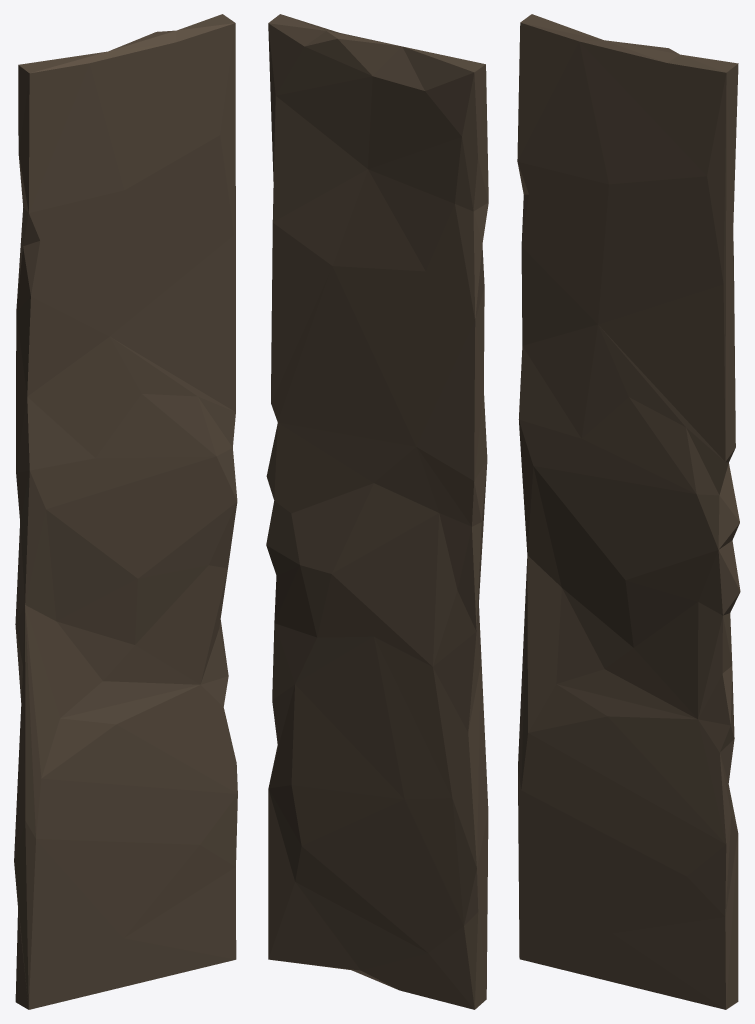
Rendered from SM_wooden_rod_03.fbx.
3 renders of one model, left to right at view 1: azimuth 30°, elevation 25°; view 2: azimuth 150°, elevation 25°; view 3: azimuth 330°, elevation 25°, orthographic.
Visible parts, largest first — view 1: wooden_rod_03; view 2: wooden_rod_03; view 3: wooden_rod_03.
Boxes of the visible parts, x1=… form: wooden_rod_03: x1=14, y1=14, x2=237, y2=1009; wooden_rod_03: x1=266, y1=14, x2=488, y2=1009; wooden_rod_03: x1=517, y1=14, x2=740, y2=1009.
Bounding box in the file's own units: 50.26 × 212 × 10.31.
